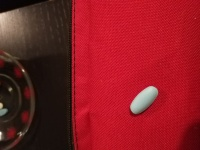Apranax: (129, 86, 160, 115)
